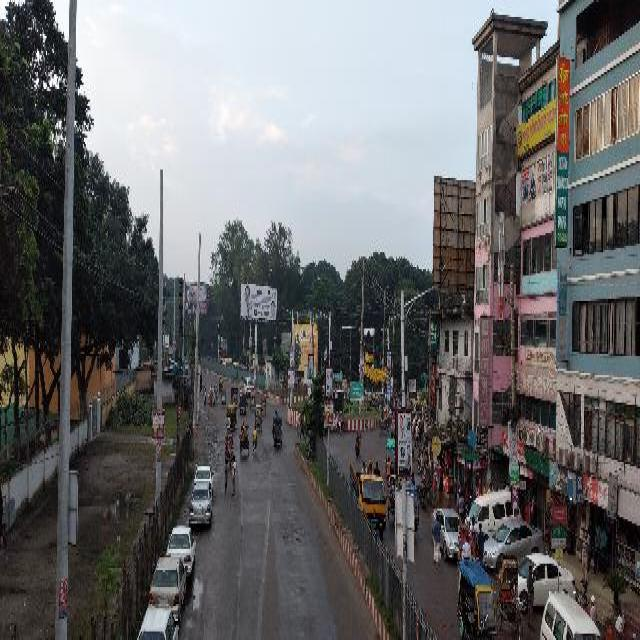bike: (418, 479, 427, 504), (419, 454, 428, 471), (337, 418, 348, 430), (253, 434, 257, 453)
vehicle: (519, 551, 576, 608), (484, 521, 546, 568), (350, 460, 386, 540), (541, 587, 595, 636), (470, 488, 523, 533), (497, 552, 525, 635), (150, 549, 188, 610), (166, 526, 197, 577), (432, 507, 460, 558), (138, 604, 181, 636), (458, 523, 480, 580), (191, 479, 214, 525), (401, 478, 420, 531), (388, 473, 398, 524), (195, 463, 213, 486), (241, 422, 250, 456), (387, 437, 396, 471), (272, 413, 282, 443), (225, 431, 233, 467), (228, 403, 239, 428), (380, 407, 390, 432), (207, 386, 219, 401), (244, 378, 254, 395), (256, 404, 263, 427), (240, 392, 246, 413), (261, 393, 267, 412), (251, 390, 256, 409), (232, 388, 238, 403), (222, 387, 227, 404), (392, 417, 396, 436), (219, 377, 223, 392)
